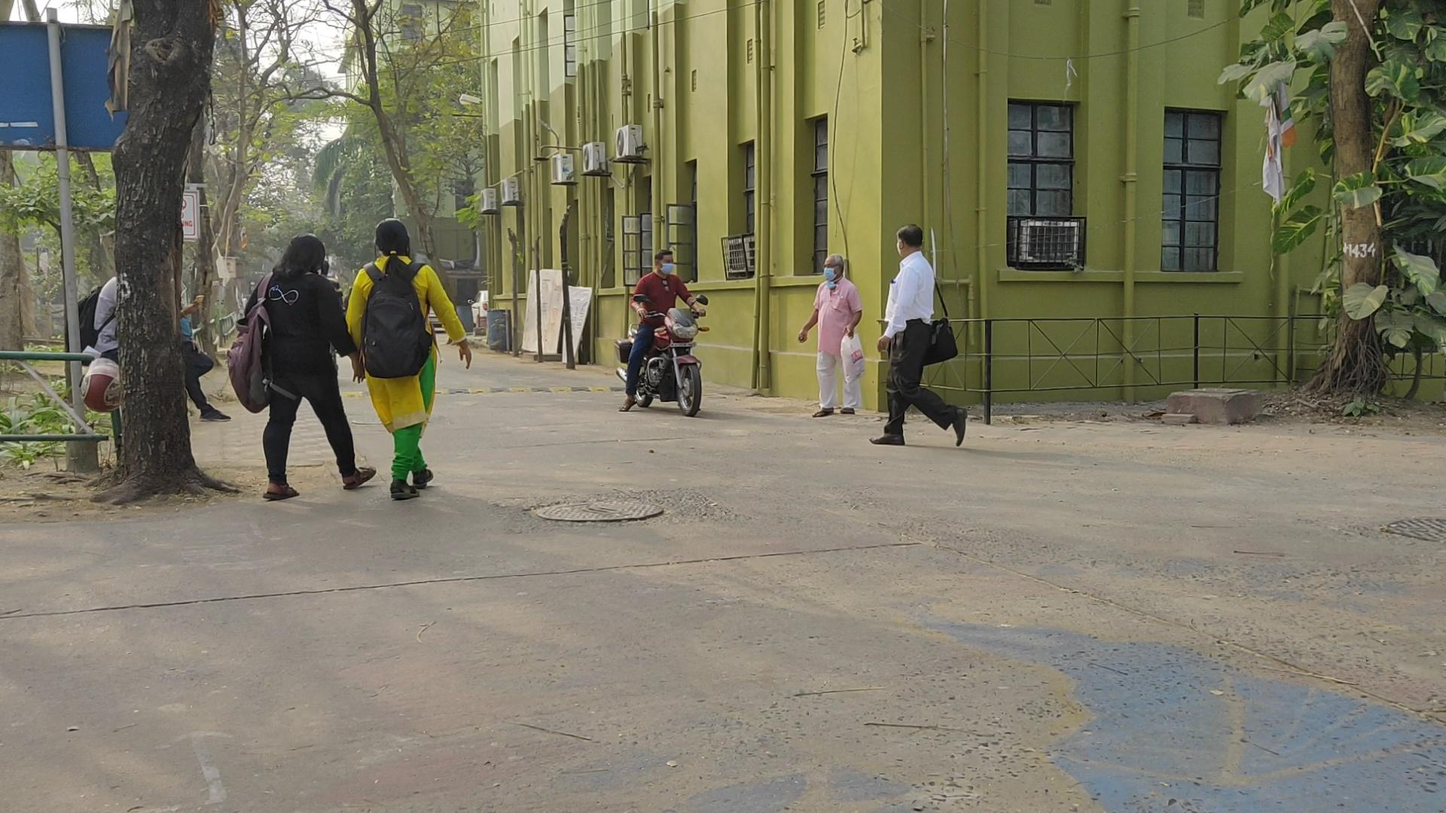bike: (614, 250, 709, 417)
